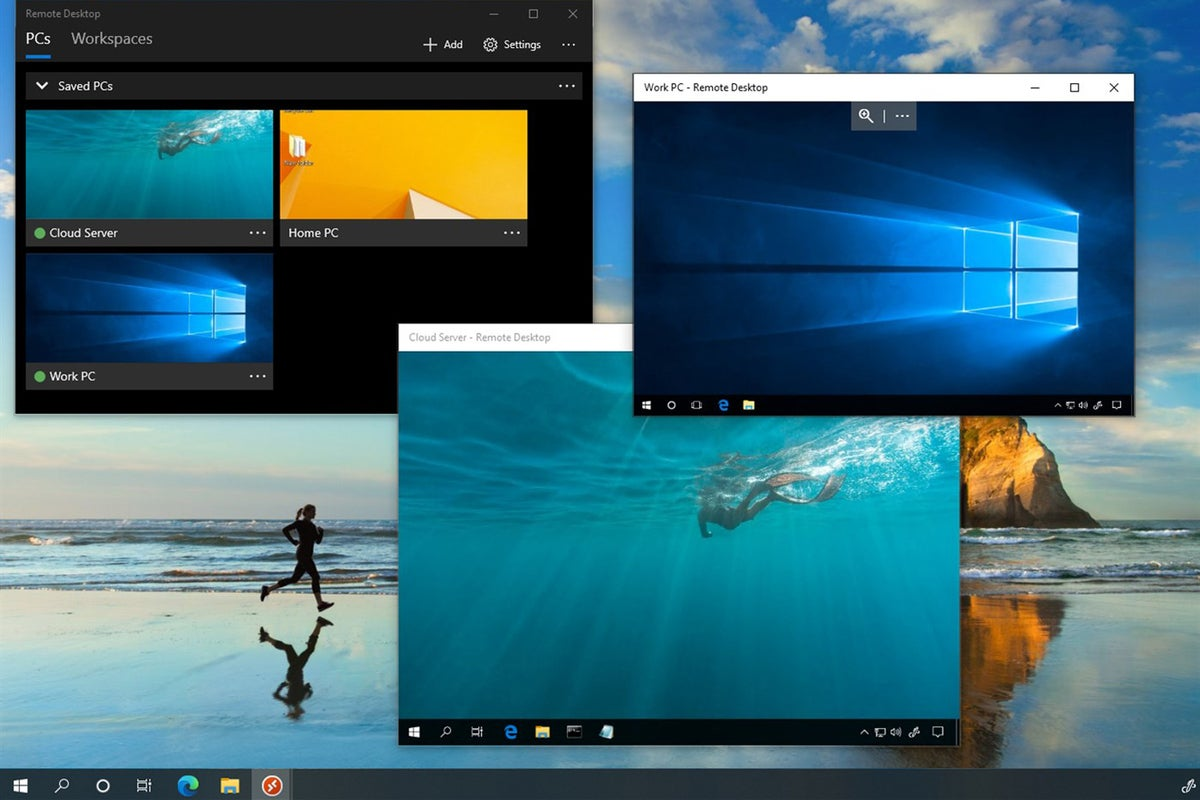start_bar: (10, 773, 35, 796)
